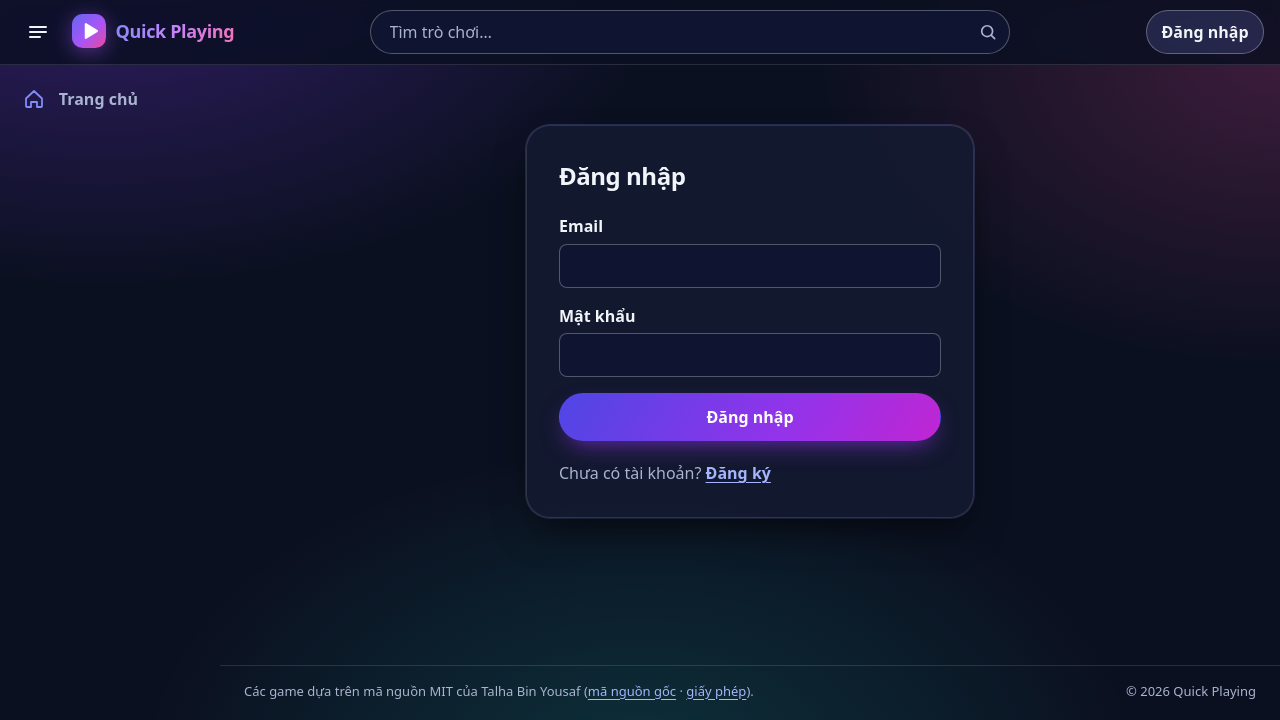
AC28 login page › success sends the trimmed email and goes to a safe next
The image size is (1280, 720).
Type "  lan@example.com " into the field with test id "login-email" at {"x": 750, "y": 266}, box left=559, top=244, right=941, bottom=288
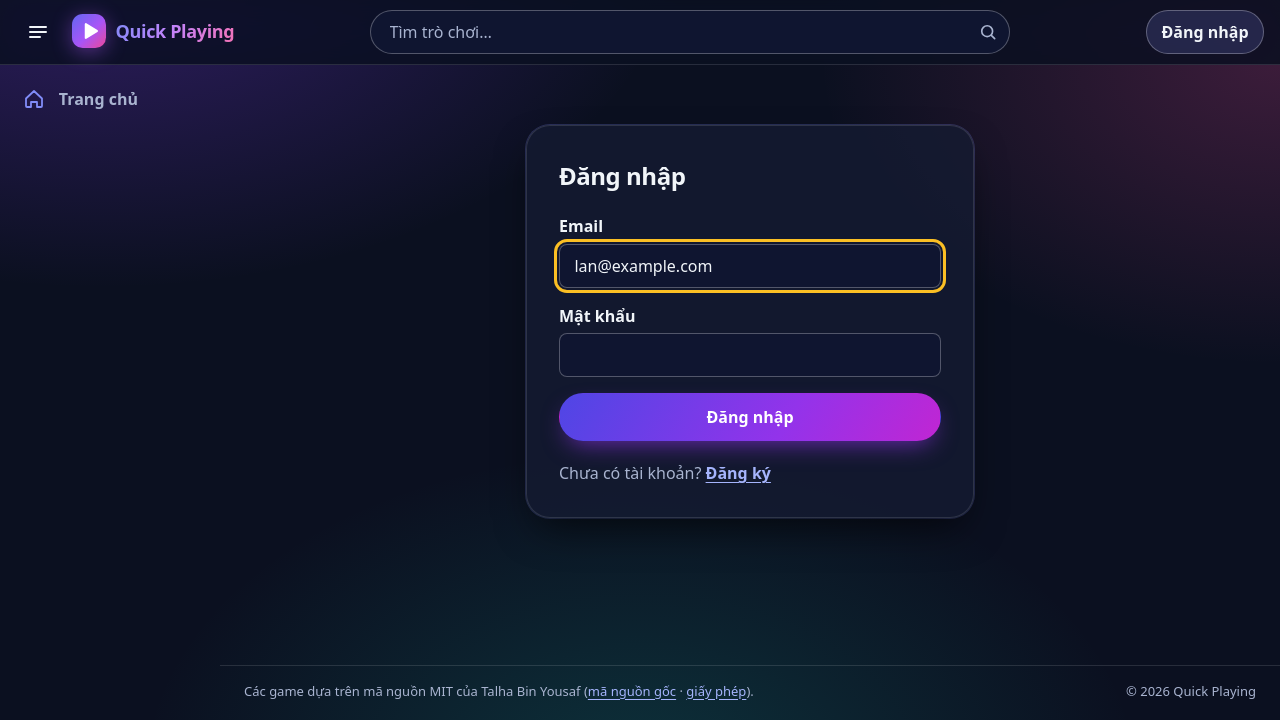
Type "mat-khau-dai-9" into the password field with test id "login-password" at {"x": 750, "y": 355}, box left=559, top=333, right=941, bottom=377
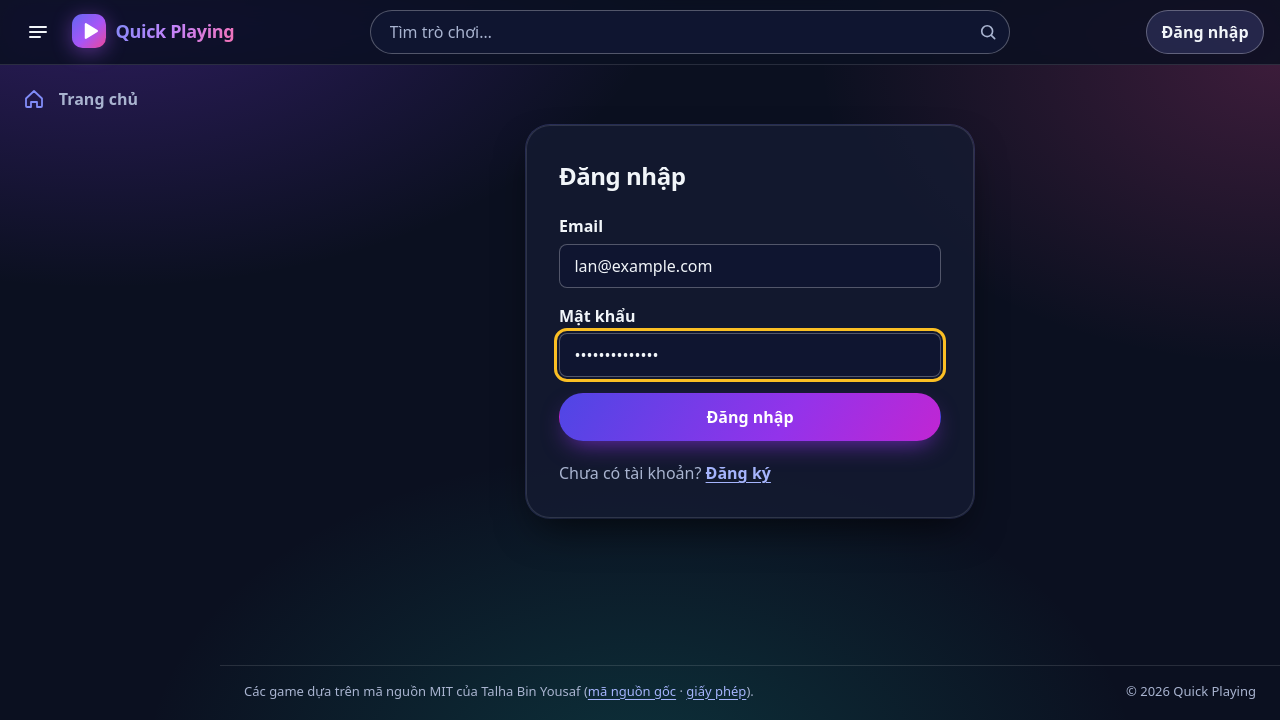
Click the button with test id "login-submit" at {"x": 750, "y": 417}, box left=559, top=393, right=941, bottom=441
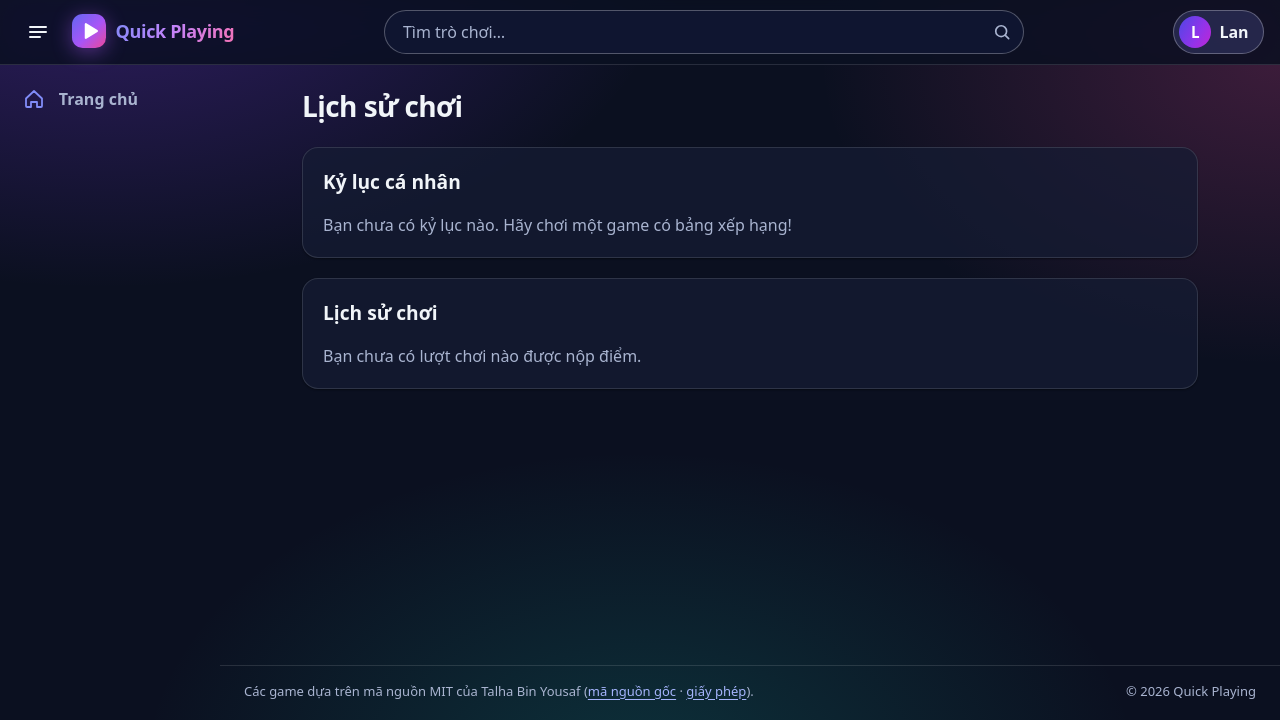
Expected: the button with test id "user-menu-button" shows "Lan", left=1173, top=10, right=1264, bottom=54
Expected: the element with test id "history-page" is shown, left=302, top=85, right=1198, bottom=389
